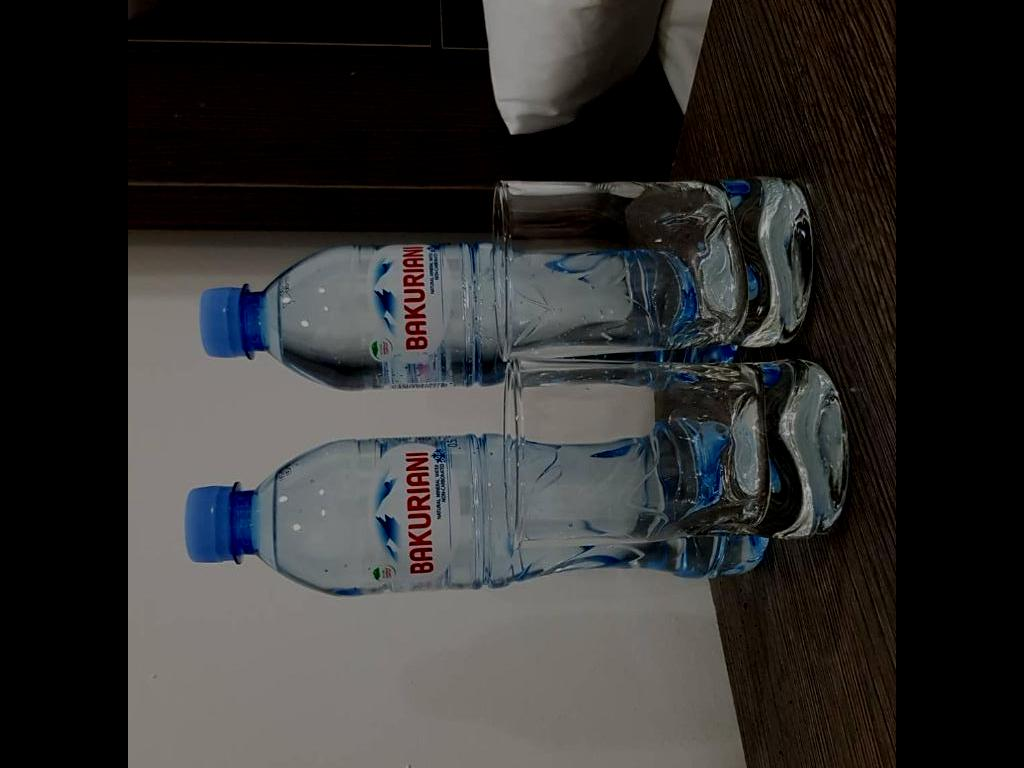bottle: (175, 410, 777, 607), (180, 226, 746, 399)
